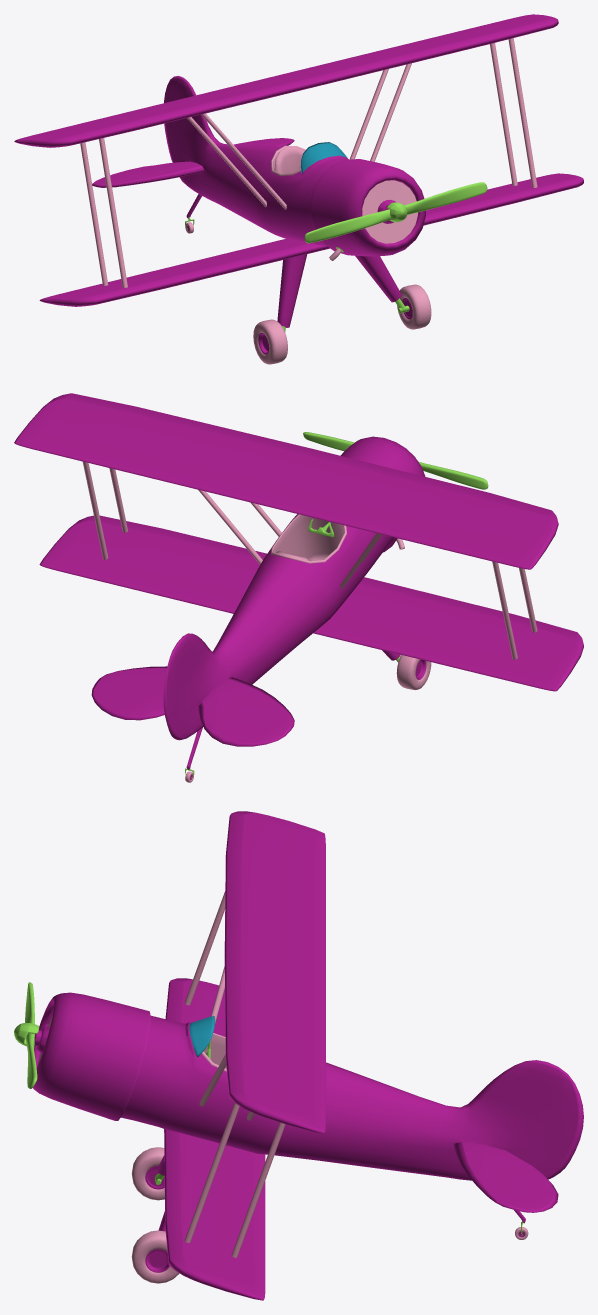
The picture shows the model from 3 angles, top to bottom: view 1: azimuth 30°, elevation 25°; view 2: azimuth 150°, elevation 25°; view 3: azimuth 270°, elevation 25°; orthographic projection. The views are drawn at different scales.
Parts seen in each view (by area): view 1: Fuselage__wings__disks__etc, Black__tires__sticks__etc_, Chrome__propeller_steering_, Glass, Chair; view 2: Fuselage__wings__disks__etc, Black__tires__sticks__etc_, Chrome__propeller_steering_; view 3: Fuselage__wings__disks__etc, Black__tires__sticks__etc_, Chrome__propeller_steering_, Glass.
Part boxes in pixels (bbox=[...]): Fuselage__wings__disks__etc: bbox=[14, 14, 583, 354]; Black__tires__sticks__etc_: bbox=[80, 38, 537, 364]; Chrome__propeller_steering_: bbox=[185, 182, 487, 332]; Glass: bbox=[300, 142, 347, 173]; Chair: bbox=[274, 147, 304, 173]; Fuselage__wings__disks__etc: bbox=[14, 393, 583, 779]; Black__tires__sticks__etc_: bbox=[82, 461, 537, 782]; Chrome__propeller_steering_: bbox=[185, 432, 488, 778]; Fuselage__wings__disks__etc: bbox=[33, 811, 583, 1300]; Black__tires__sticks__etc_: bbox=[38, 891, 528, 1283]; Chrome__propeller_steering_: bbox=[14, 982, 523, 1235]; Glass: bbox=[189, 1016, 215, 1057].
Bounding box in the file's own units: 238 × 106 × 191.
